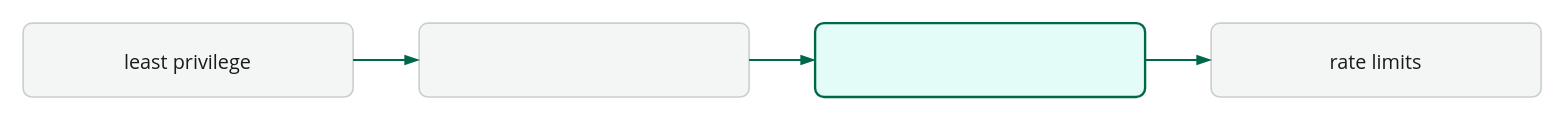
Some shapes in this 1566 by 121 pixel diagram are drawn without their labels. Each missing label, with the box of its shape:
audit trail: (813, 21, 1146, 98)
confirmation gates: (418, 22, 749, 97)
